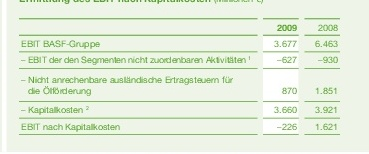table: (0, 0, 369, 154)
